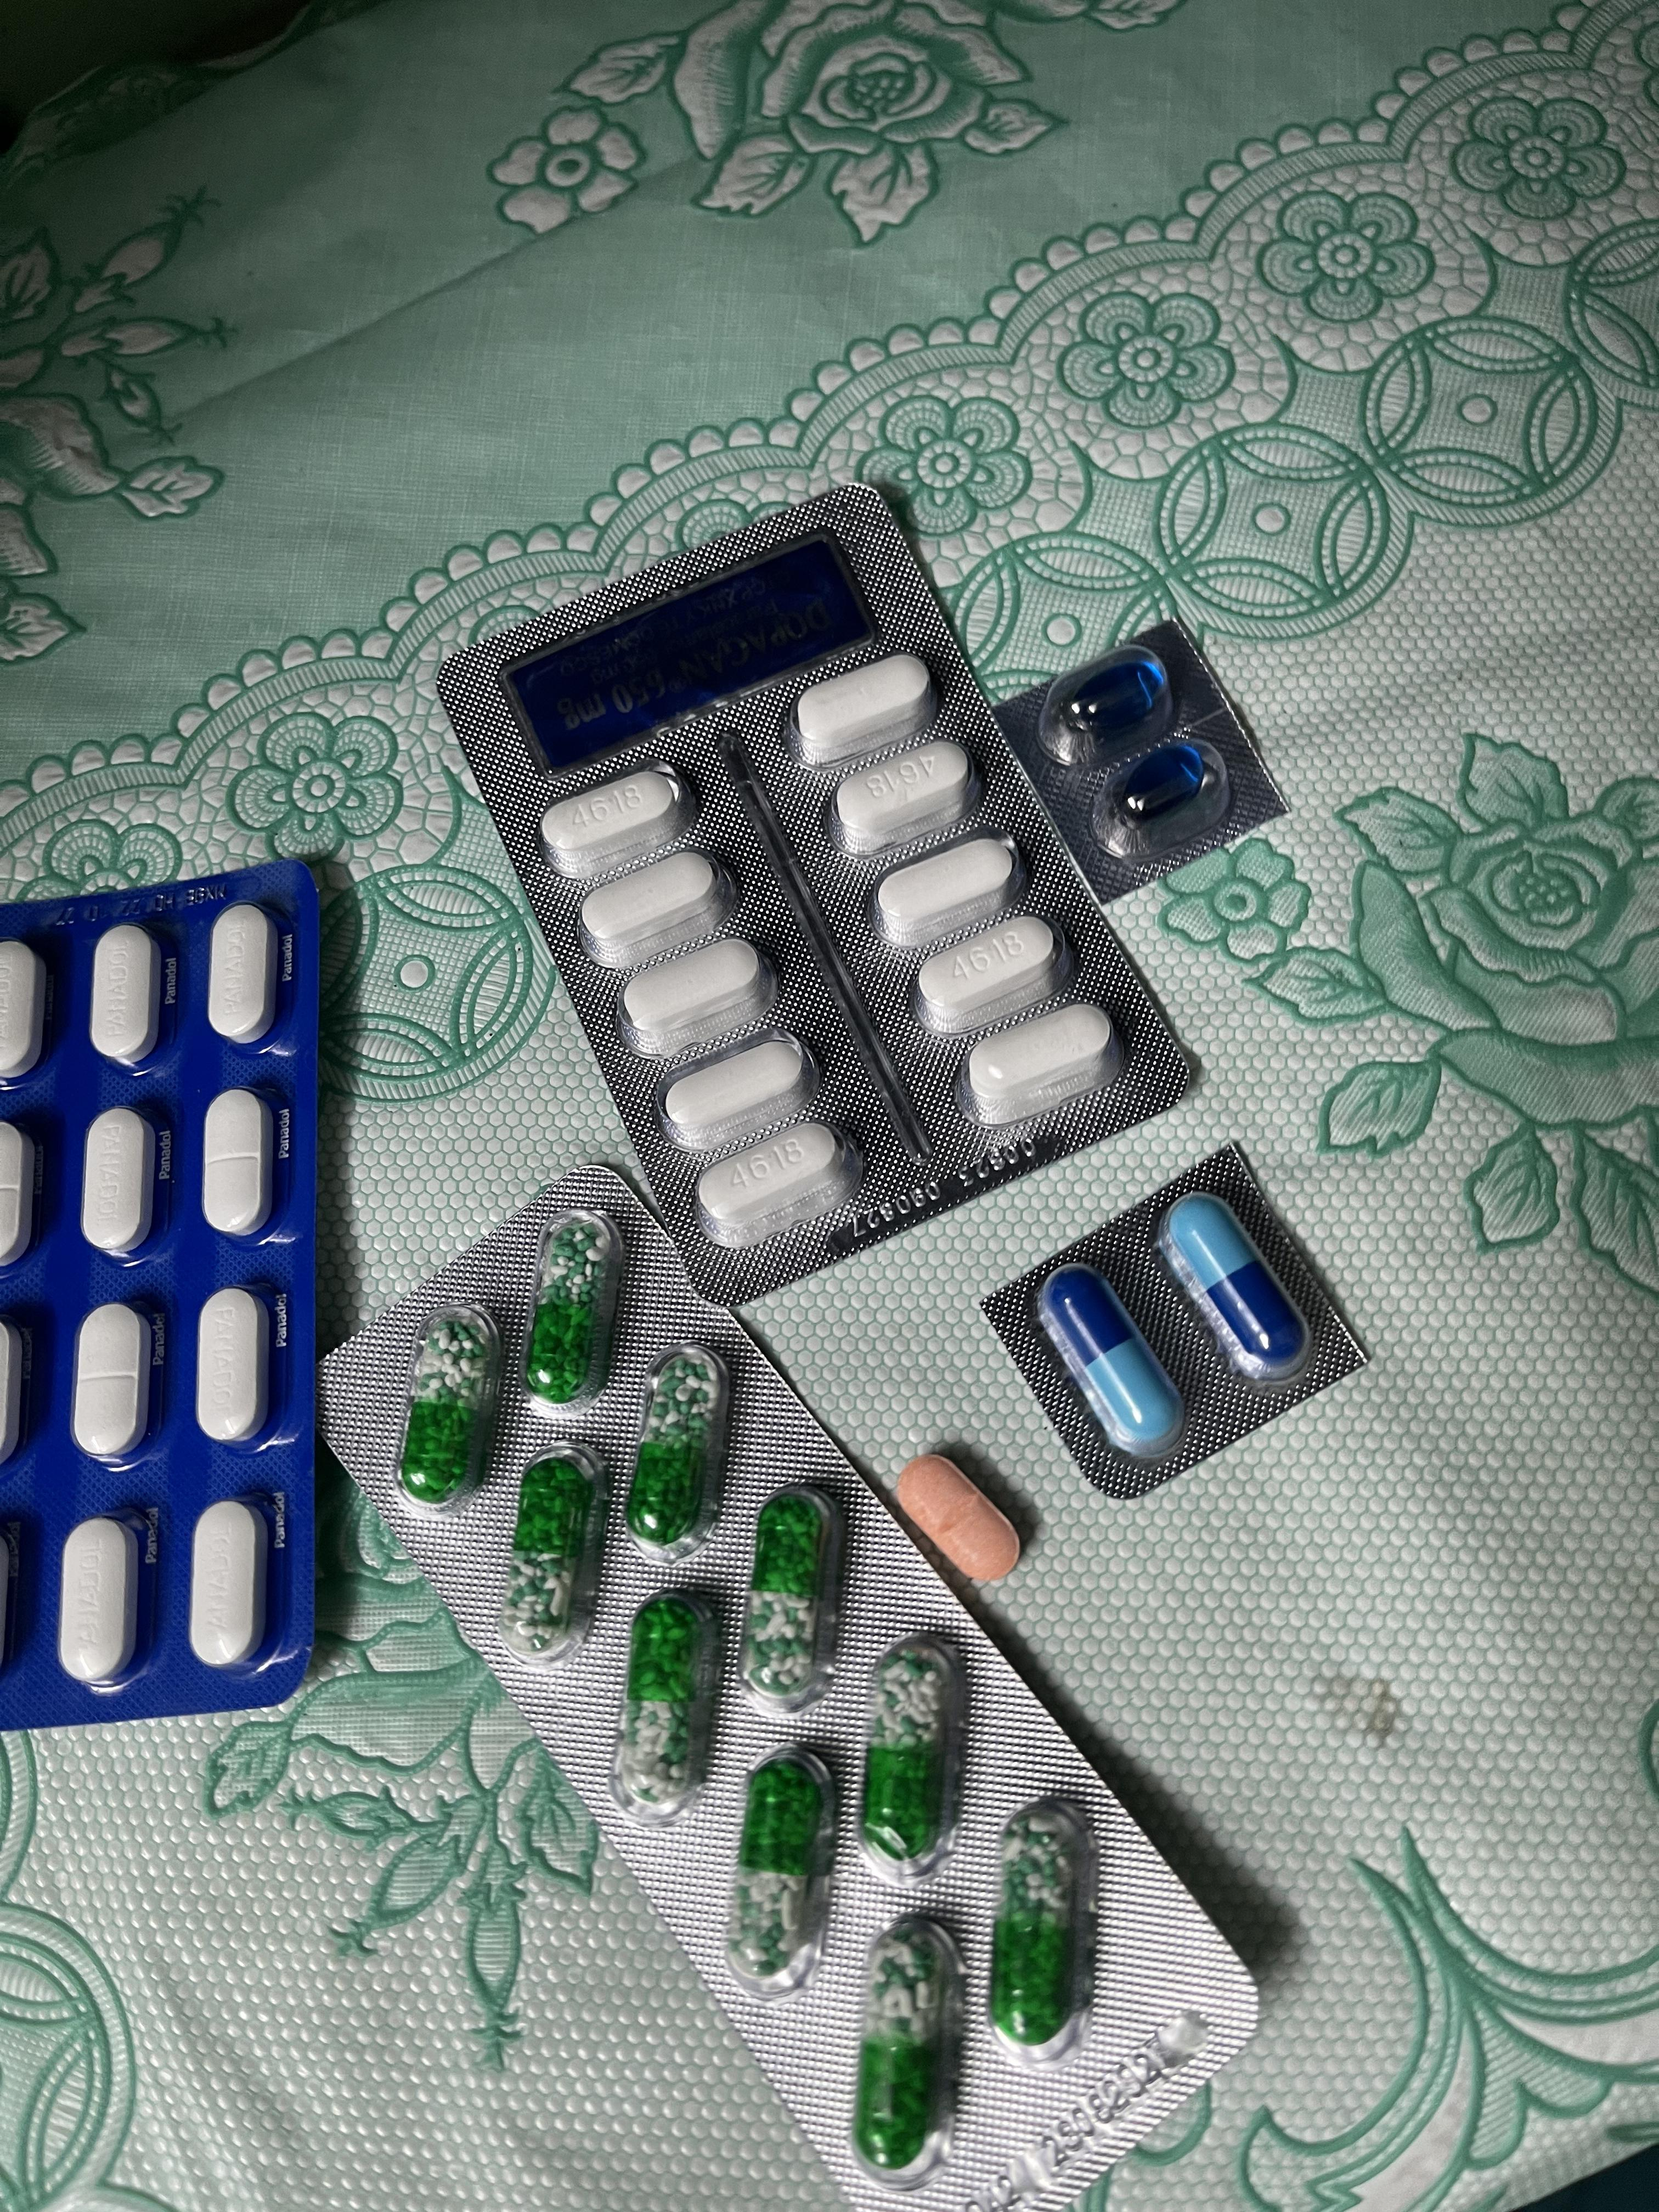Lincomyxin_500mg: (1065, 658, 1164, 735), (1121, 744, 1208, 820)
Loratadine_10mg: (896, 1454, 1025, 1585)
Paracetamol_350mg: (188, 1496, 274, 1674), (59, 1512, 145, 1689), (71, 1299, 157, 1465), (195, 1285, 275, 1454), (82, 1106, 160, 1259), (202, 1089, 277, 1237), (91, 923, 162, 1061), (207, 904, 279, 1040), (2, 939, 49, 1073)
Paracetamol_500mg: (697, 1123, 856, 1244), (575, 846, 728, 968), (960, 1003, 1114, 1125), (622, 937, 774, 1059), (915, 914, 1063, 1036), (873, 838, 1023, 958), (662, 1042, 814, 1157), (542, 759, 690, 874), (833, 742, 976, 859), (784, 657, 929, 766)
Paracetamol_650mg: (850, 1918, 960, 2186), (723, 1750, 838, 1996), (988, 1799, 1093, 2059), (610, 1595, 725, 1822), (857, 1641, 960, 1883), (500, 1446, 608, 1663), (620, 1346, 728, 1561), (390, 1306, 502, 1508), (737, 1493, 835, 1709), (519, 1211, 619, 1413)
pill: (1040, 1259, 1192, 1463), (1161, 1195, 1312, 1392)
